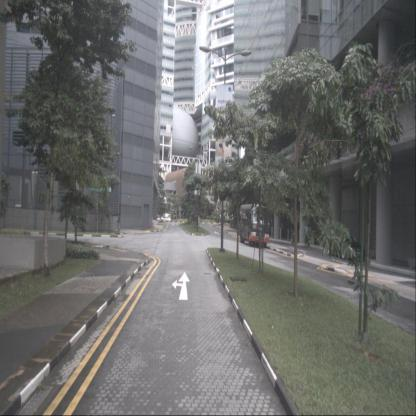human-pedestrian-adult: (117, 213, 120, 232), (224, 214, 228, 225)
vehicle-bus-rigid: (237, 204, 270, 248)
vehicle-car: (325, 230, 366, 260), (161, 215, 172, 223), (160, 216, 172, 223)
vehicle-motorcycle: (290, 227, 297, 245)
